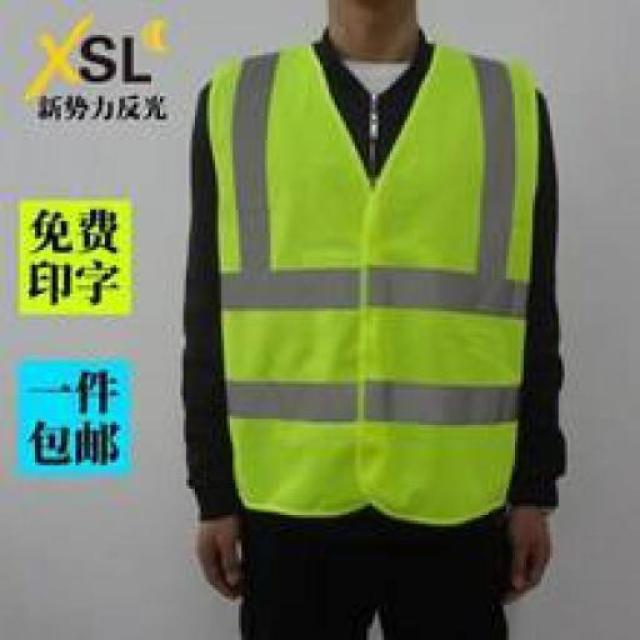vest: (206, 46, 544, 524)
